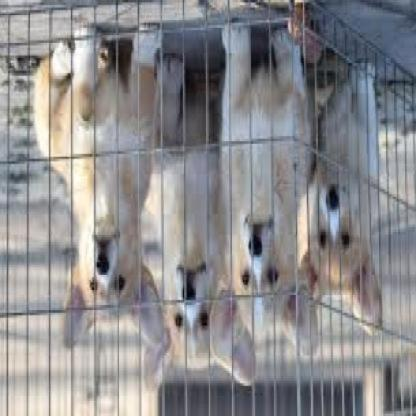dog: (32, 11, 398, 390), (33, 26, 174, 388)
